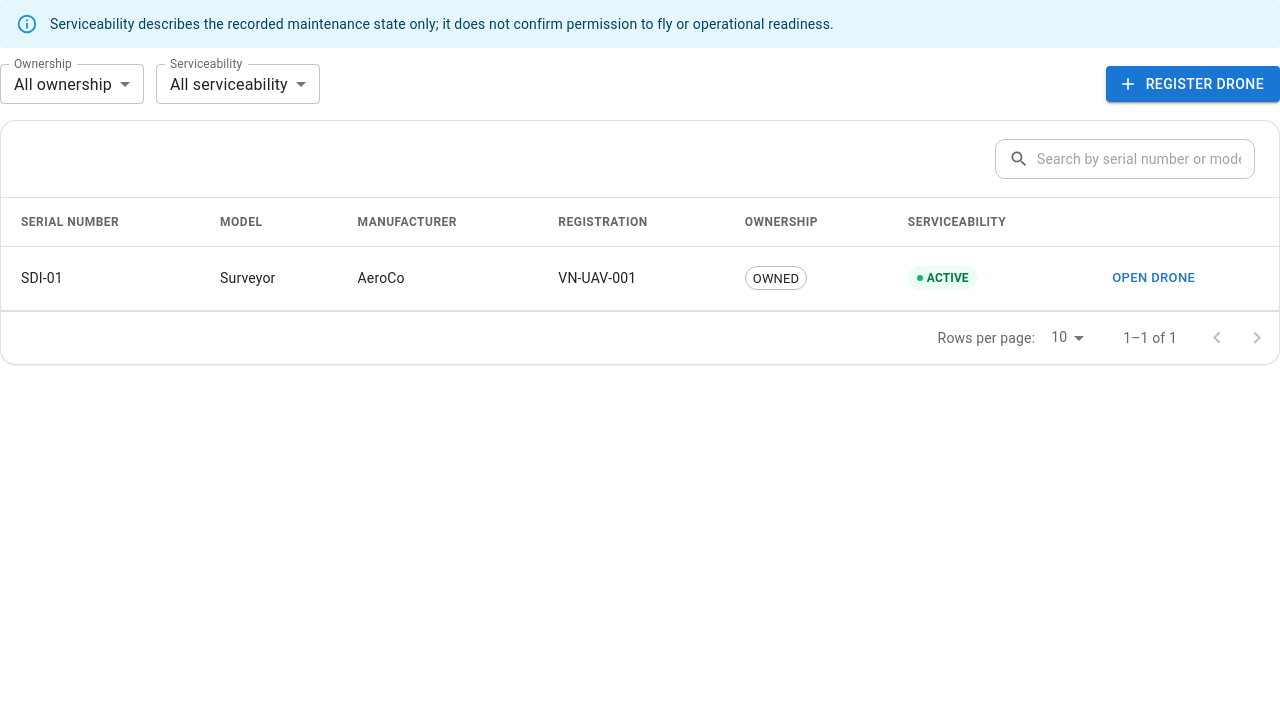
Test case: DroneInventoryPanel › displays registration details in drawer
The width and height of the screenshot is (1280, 720).
Click the button "Open drone". click: (1154, 278)
box: [1107, 263, 1200, 294]
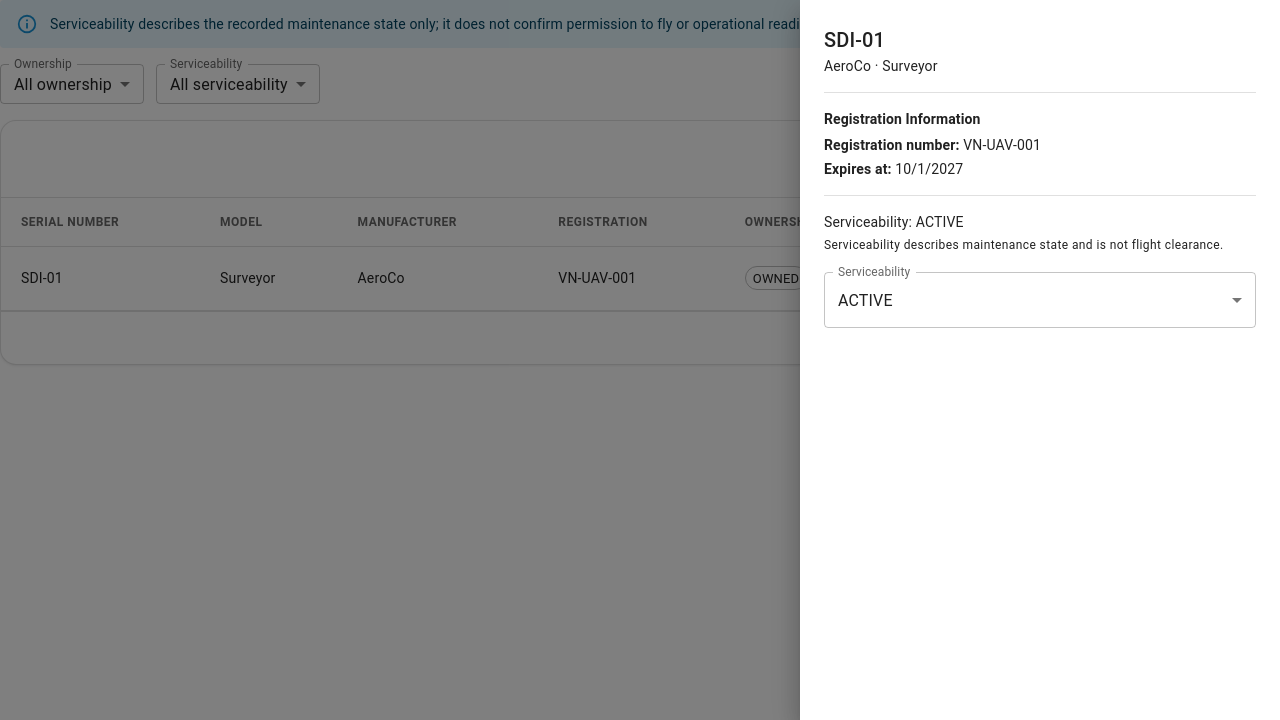
Result: the text "VN-UAV-001" is shown at [963, 137, 1041, 153]
Result: the heading "Registration Information" is shown at [824, 111, 980, 127]
